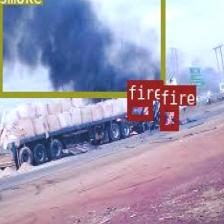fire: (126, 99, 152, 119), (159, 106, 177, 130)
smoke: (0, 0, 164, 96)
